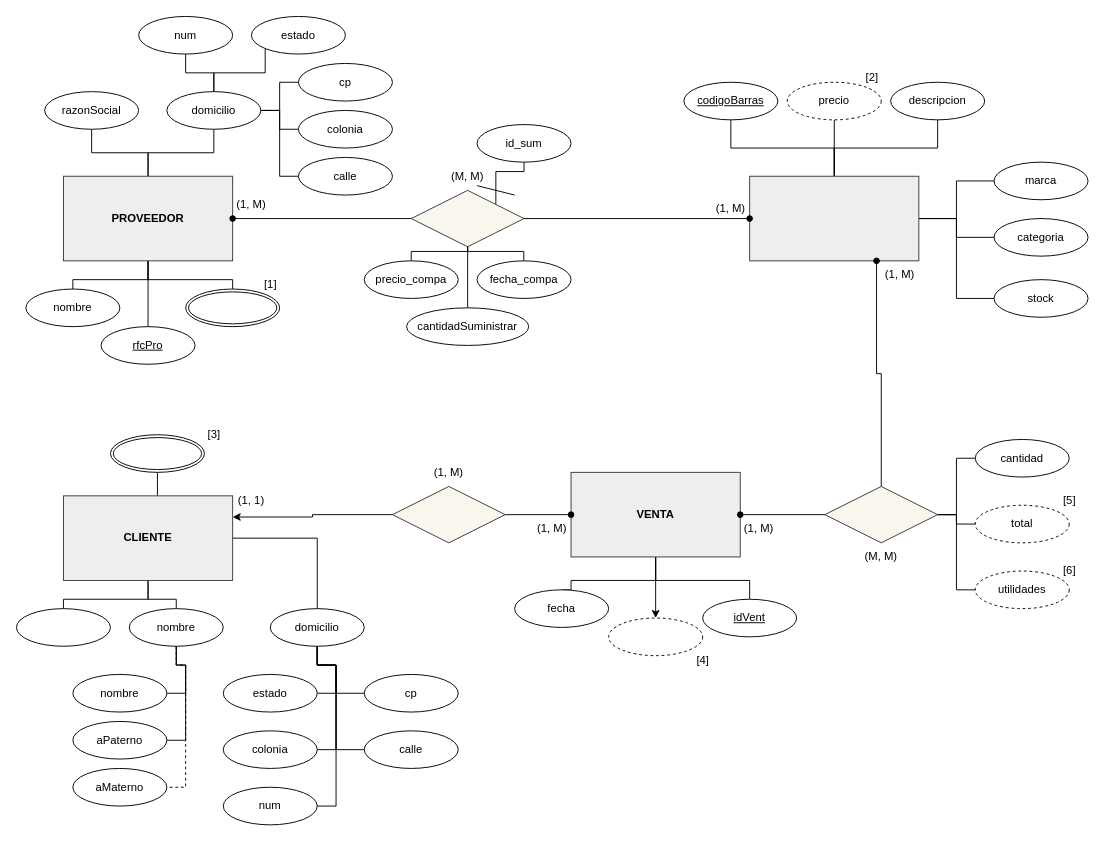
Image size: 1105x841. Some labels were removed from this diagram. Here are the shapes that lost their labels. From the top down, the centre of each, then its label:
point (467, 218): suministrar
point (834, 218): PRODUCTO
point (232, 307): telefonos
point (157, 453): emails
point (448, 514): generar
point (881, 514): conformar
point (63, 627): rfcClien
point (655, 636): venta_total
